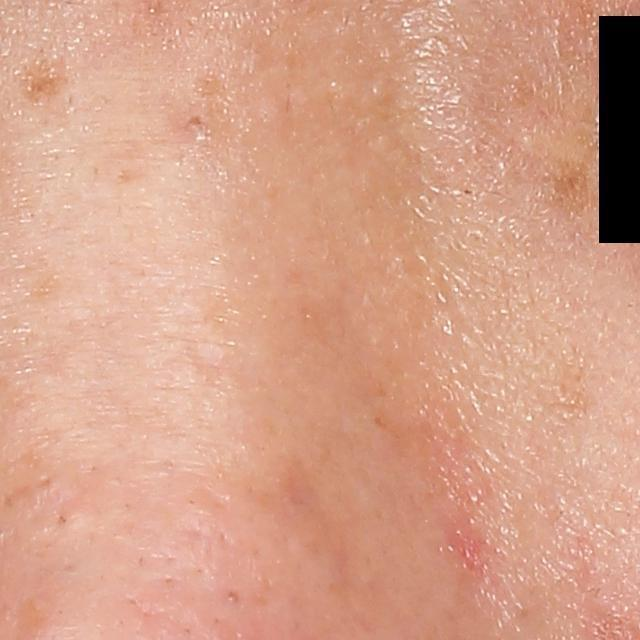melasma: (535, 160, 597, 233), (7, 48, 67, 107)
